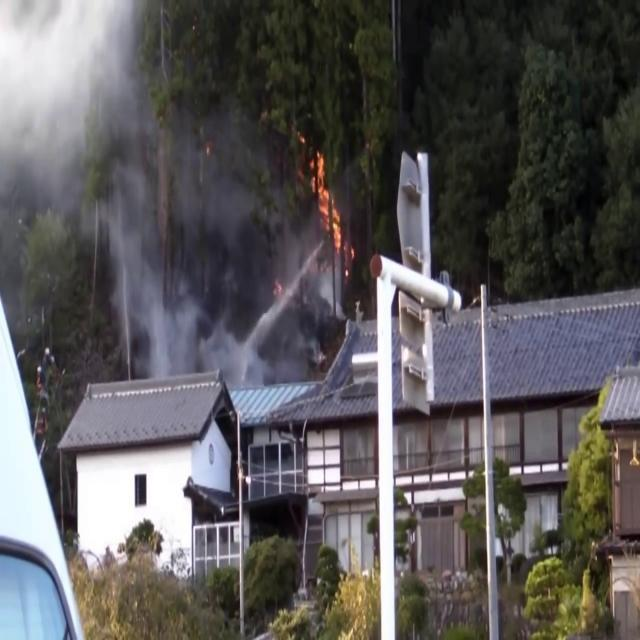Fire: (308, 141, 346, 265)
Smoke: (0, 0, 272, 408)
